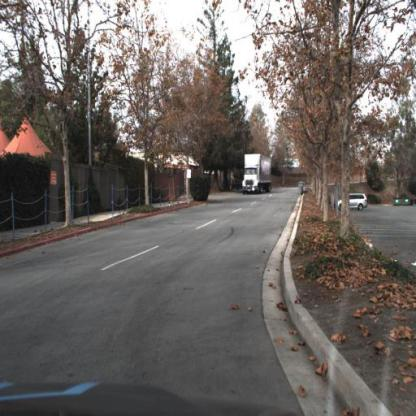car: (337, 191, 369, 215)
truck: (242, 150, 273, 196)
